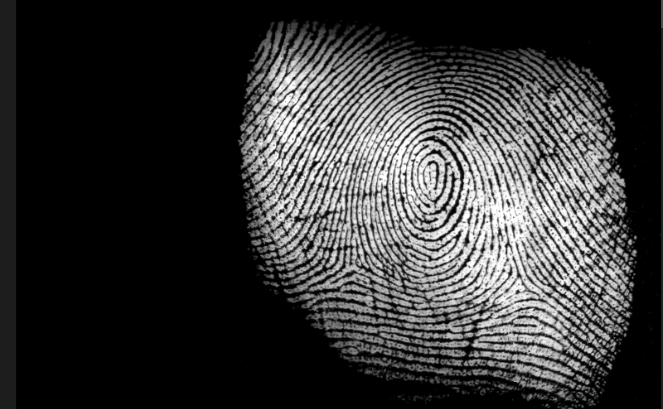nucelo: (413, 151, 446, 192)
verticilo: (500, 261, 536, 297), (334, 257, 369, 278)
